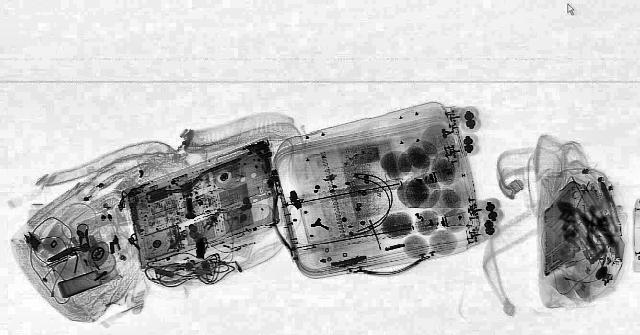Pliers: (596, 178, 626, 228)
